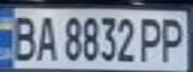2: (115, 14, 139, 63)
3: (100, 14, 121, 63)
8: (78, 12, 103, 62), (60, 12, 84, 62)
A: (33, 11, 60, 62)
B: (6, 11, 39, 62)
P: (157, 14, 190, 63), (136, 14, 166, 63)
